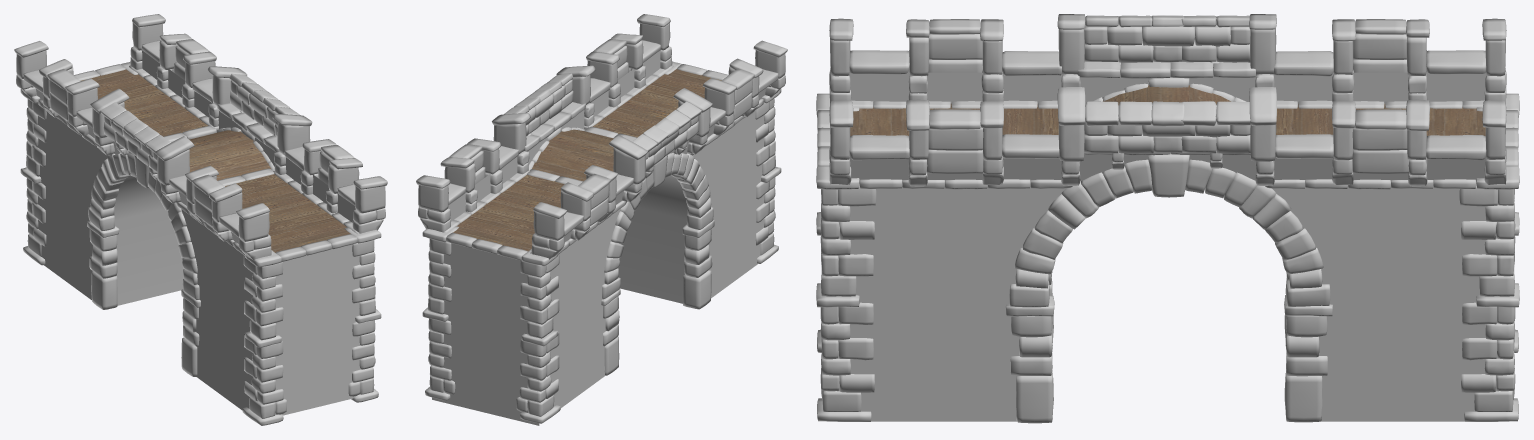
The model's file is CastleWallGate.fbx.
3 renders of one model, left to right at view 1: azimuth 30°, elevation 25°; view 2: azimuth 150°, elevation 25°; view 3: azimuth 270°, elevation 25°, orthographic. The views are drawn at different scales.
Visible parts, largest first — view 1: Wall_gate1; view 2: Wall_gate1; view 3: Wall_gate1.
Part boxes in pixels (box(x1,y1,x2,y2)): Wall_gate1: box(14, 14, 387, 425); Wall_gate1: box(416, 14, 787, 425); Wall_gate1: box(816, 14, 1519, 423).
Size of the model in its own units: 1075 by 389 by 560.
